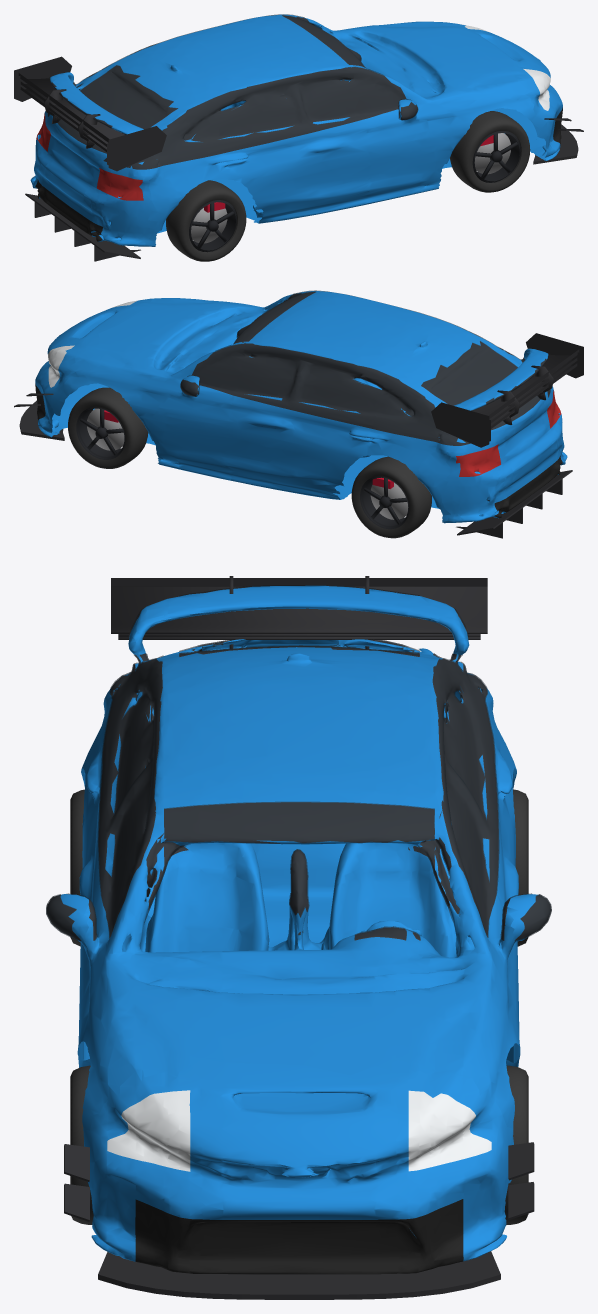
The model's file is honda_civic_type_r.glb.
3 views of the same model, one above another, from view 1: azimuth 30°, elevation 25°; view 2: azimuth 150°, elevation 25°; view 3: azimuth 270°, elevation 25° (orthographic). The views are drawn at different scales.
Parts seen in each view (by area): view 1: body, cabin, bumper_rear, bumper_front, wheel_rr_spin, wheel_fr_spin, wing_rear_up3, diffuser, wing_rear_up2, wing_rear, splitter_up, mirror_r; view 2: body, cabin, bumper_rear, bumper_front, wheel_rl_spin, wheel_fl_spin, wing_rear_up3, diffuser, wing_rear_up2, wing_rear, splitter_up, mirror_l; view 3: body, bumper_front, cabin, wing_rear_up3, bumper_rear, splitter_up, splitter, canards, wheel_fl_spin, mirror_r, mirror_l, wheel_fr_spin (+4 smaller).
Part boxes in pixels (left/top/right/bottom): body: left=63, top=14, right=539, bottom=246; cabin: left=47, top=14, right=418, bottom=169; bumper_rear: left=30, top=73, right=157, bottom=246; bumper_front: left=441, top=22, right=562, bottom=160; wheel_rr_spin: left=166, top=180, right=246, bottom=261; wheel_fr_spin: left=450, top=111, right=530, bottom=192; wing_rear_up3: left=14, top=56, right=166, bottom=171; diffuser: left=25, top=193, right=140, bottom=261; wing_rear_up2: left=15, top=69, right=108, bottom=162; wing_rear: left=15, top=76, right=108, bottom=164; splitter_up: left=533, top=124, right=578, bottom=164; mirror_r: left=398, top=99, right=417, bottom=119; body: left=59, top=291, right=534, bottom=523; cabin: left=180, top=290, right=550, bottom=445; bumper_rear: left=441, top=349, right=567, bottom=522; bumper_front: left=35, top=298, right=155, bottom=437; wheel_rl_spin: left=351, top=456, right=431, bottom=538; wheel_fl_spin: left=68, top=387, right=148, bottom=468; wing_rear_up3: left=431, top=333, right=583, bottom=447; diffuser: left=456, top=470, right=572, bottom=538; wing_rear_up2: left=489, top=345, right=582, bottom=438; wing_rear: left=489, top=357, right=582, bottom=441; splitter_up: left=19, top=400, right=64, bottom=440; mirror_l: left=180, top=375, right=199, bottom=396; body: left=77, top=615, right=520, bottom=1146; bumper_front: left=83, top=1062, right=513, bottom=1274; cabin: left=46, top=585, right=551, bottom=941; wing_rear_up3: left=111, top=576, right=487, bottom=633; bumper_rear: left=105, top=585, right=490, bottom=701; splitter_up: left=98, top=1251, right=500, bottom=1299; splitter: left=105, top=1253, right=493, bottom=1289; canards: left=64, top=1142, right=534, bottom=1221; wheel_fl_spin: left=504, top=1065, right=528, bottom=1225; mirror_r: left=47, top=894, right=88, bottom=950; mirror_l: left=507, top=894, right=550, bottom=948; wheel_fr_spin: left=70, top=1065, right=93, bottom=1224.
Bounding box in the file's own units: 4.68 × 1.4 × 2.11.
